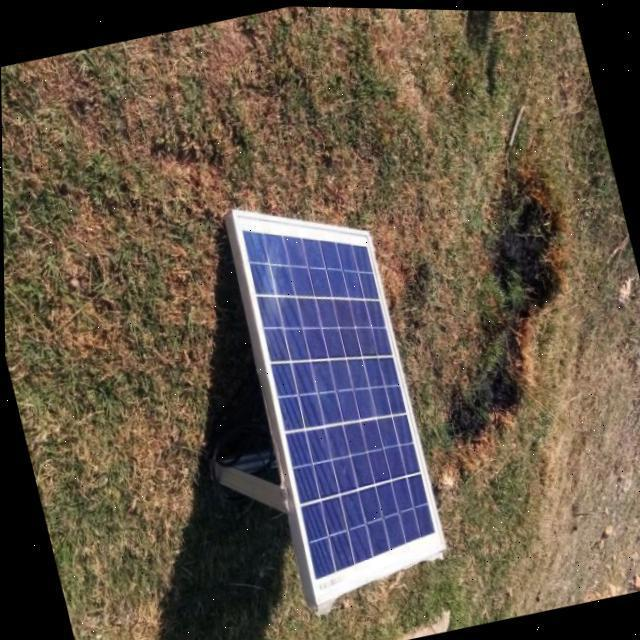Normal Solar Panel: (217, 178, 452, 606)
